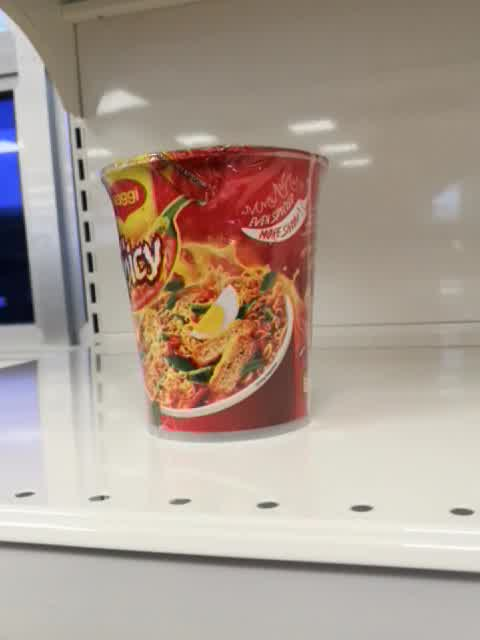maggi: (100, 144, 330, 444)
